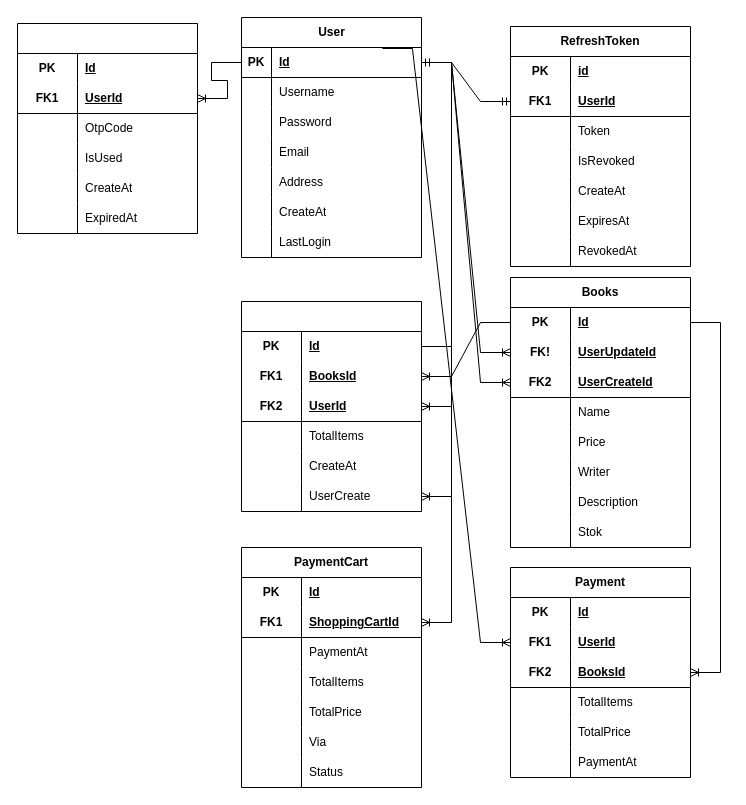
The diagram is 746 pixels wide and 805 high, and some of its shapes have lost their labels. Here are the shapes that lost their labels. From the top down, the box of each, then its label:
(16, 22, 198, 234): UsersOtp
(240, 300, 422, 512): ShoppingCart
